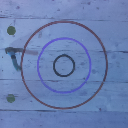Axe Tip: (14, 48, 22, 53)
